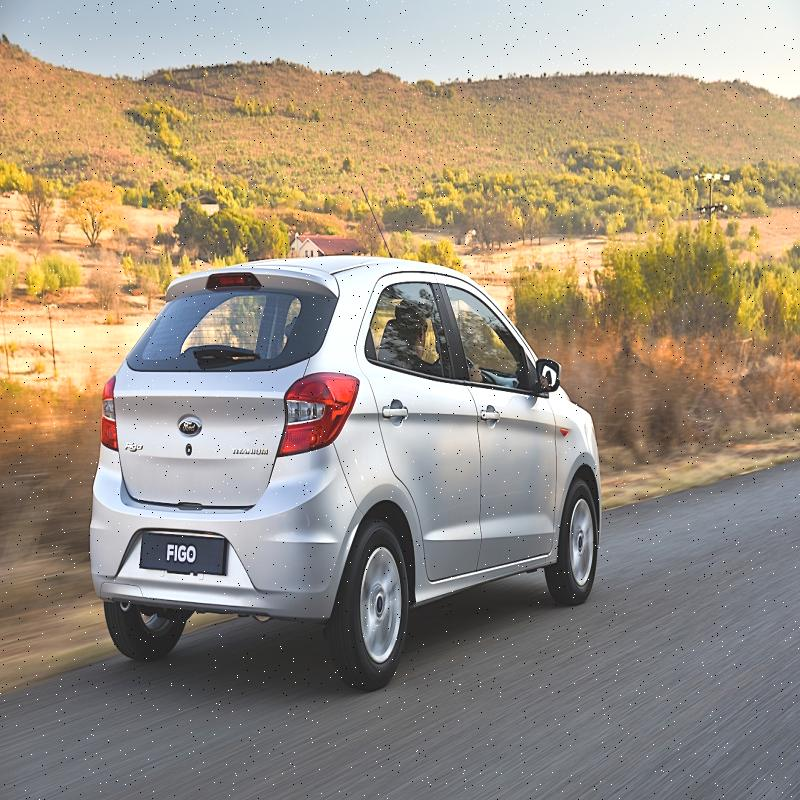car: (70, 238, 605, 661)
